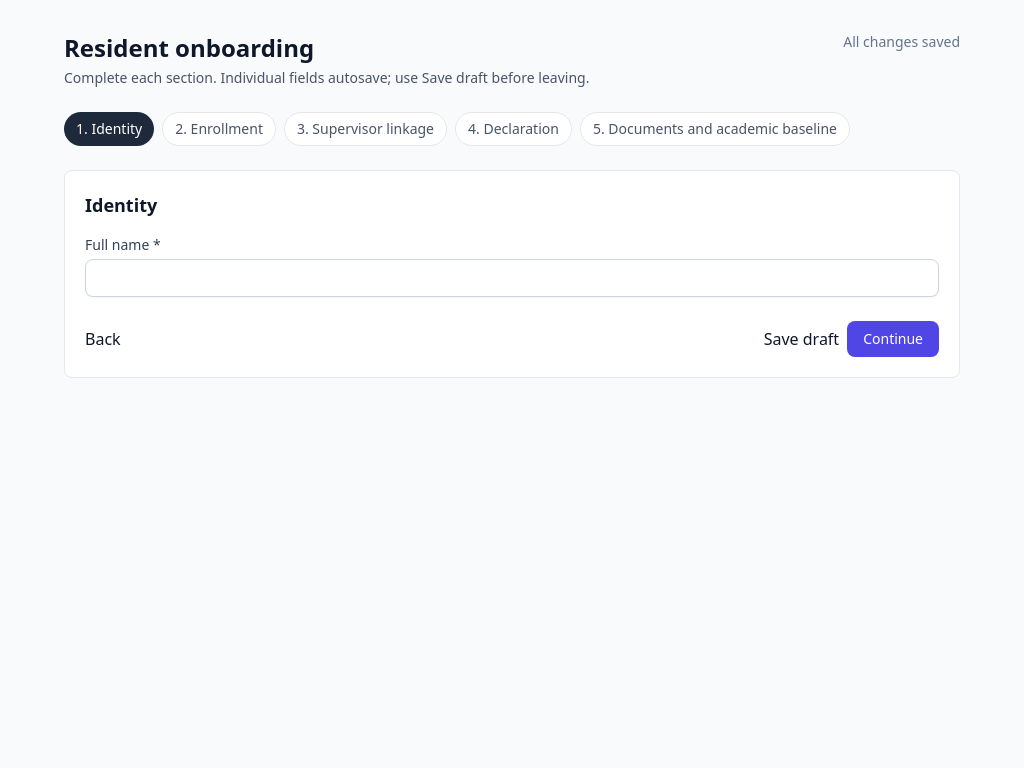
Test: CompleteProfilePage › keeps the resident on the page when backend completion is still required
Check: the heading "Resident onboarding" is shown, box [64, 31, 314, 64]
What coordinates should you click on to do the following:
click the button "5. Documents and academic baseline"
I would click on:
 (715, 129)
Its box is [580, 112, 850, 146].
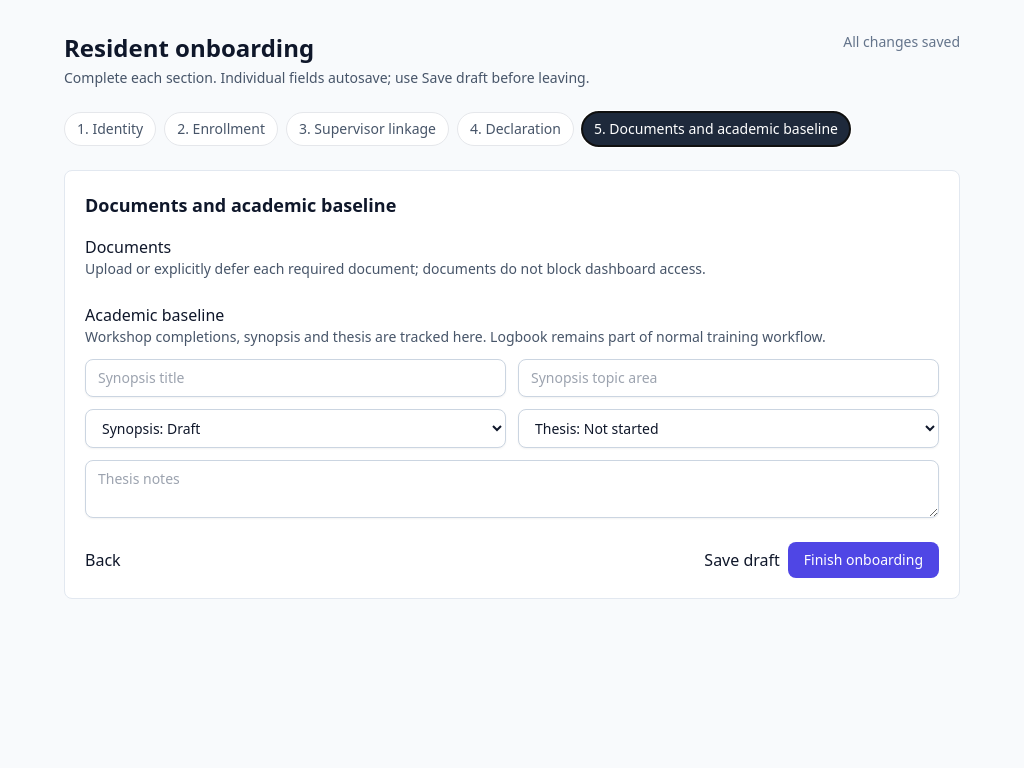
What coordinates should you click on to do the following:
click the button "Finish onboarding"
I would click on:
 (863, 560)
Its box is [788, 542, 939, 578].
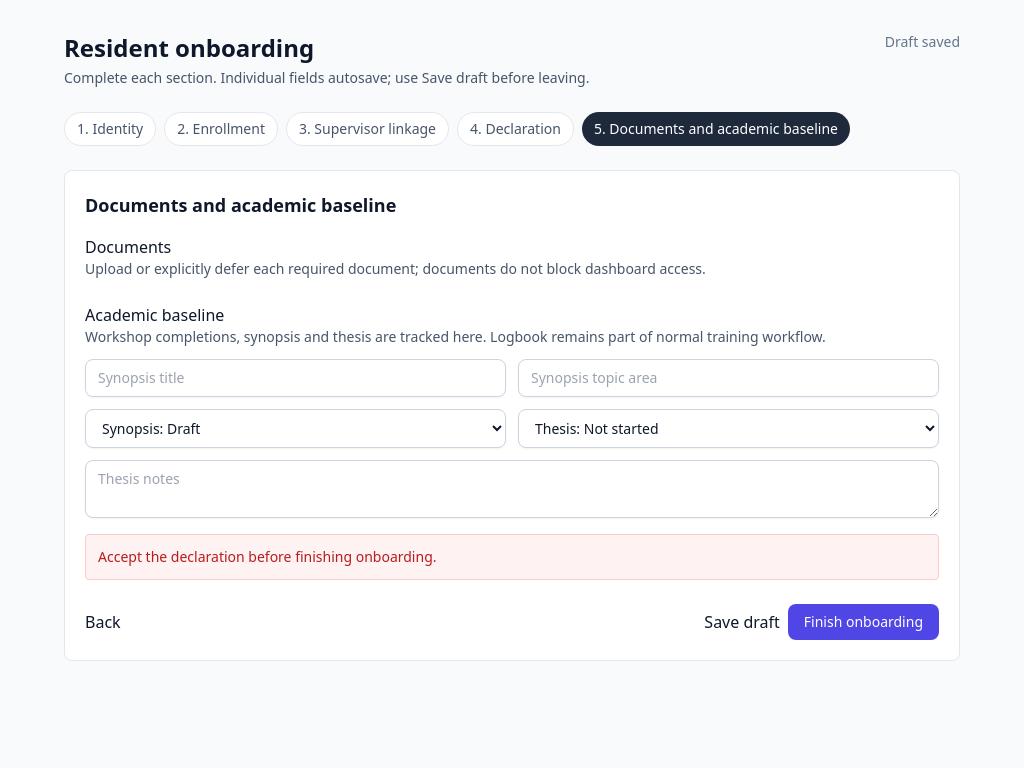
Check: the text "Accept the declaration before finishing onboarding." is shown, box [85, 534, 939, 580]
